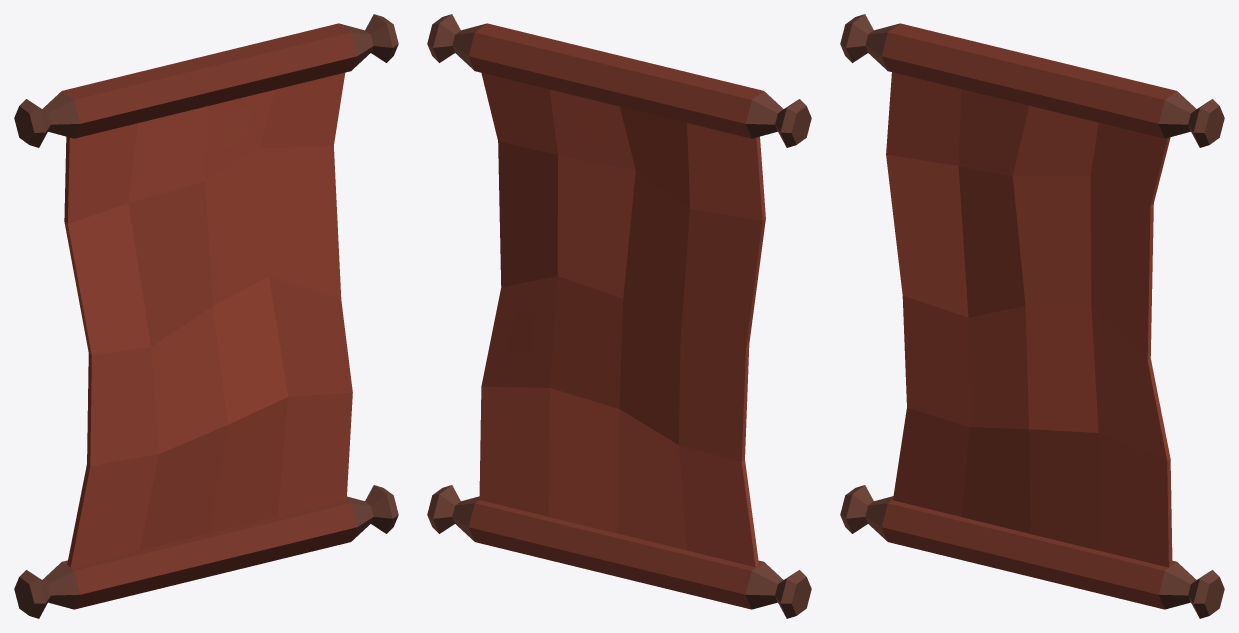
Rendered from Parchment_3_Red.fbx.
3 views of the same model, side by side, from view 1: azimuth 30°, elevation 25°; view 2: azimuth 150°, elevation 25°; view 3: azimuth 330°, elevation 25° (orthographic).
Parts seen in each view (by area): view 1: Parchment_3_Red_Part_3, Parchment_3_Red_Part_2, Parchment_3_Red_Part_1; view 2: Parchment_3_Red_Part_3, Parchment_3_Red_Part_2, Parchment_3_Red_Part_1; view 3: Parchment_3_Red_Part_3, Parchment_3_Red_Part_2, Parchment_3_Red_Part_1.
Part boxes in pixels (<box>): Parchment_3_Red_Part_3: <box>64,72,352,567</box>; Parchment_3_Red_Part_2: <box>62,23,357,609</box>; Parchment_3_Red_Part_1: <box>14,14,398,618</box>; Parchment_3_Red_Part_3: <box>479,73,765,567</box>; Parchment_3_Red_Part_2: <box>468,23,763,609</box>; Parchment_3_Red_Part_1: <box>427,14,811,618</box>; Parchment_3_Red_Part_3: <box>886,72,1172,567</box>; Parchment_3_Red_Part_2: <box>881,23,1176,609</box>; Parchment_3_Red_Part_1: <box>840,14,1224,618</box>.
Size of the model in its own units: 29.8 by 39.93 by 3.61.
